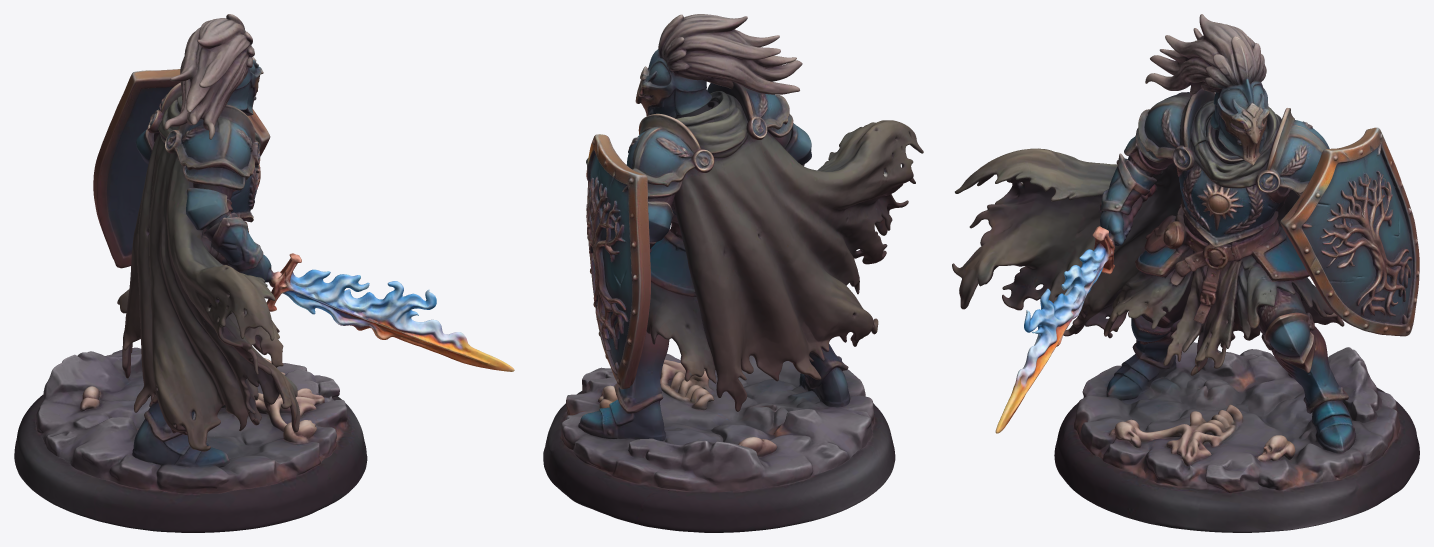
File: inspiration-431.glb
3 views of the same model, side by side, from view 1: azimuth 30°, elevation 25°; view 2: azimuth 150°, elevation 25°; view 3: azimuth 270°, elevation 25° (orthographic).
Parts seen in each view (by area): view 1: tripo_node_c1ebcdc5-d029-4665-b0c7-721775fae2c4; view 2: tripo_node_c1ebcdc5-d029-4665-b0c7-721775fae2c4; view 3: tripo_node_c1ebcdc5-d029-4665-b0c7-721775fae2c4.
Boxes of the visible parts, x1,y1,x2,y2 form: tripo_node_c1ebcdc5-d029-4665-b0c7-721775fae2c4: (14, 14, 514, 532); tripo_node_c1ebcdc5-d029-4665-b0c7-721775fae2c4: (543, 14, 923, 532); tripo_node_c1ebcdc5-d029-4665-b0c7-721775fae2c4: (952, 14, 1419, 532).
Bounding box in the file's own units: 0.8612 × 1 × 0.9615.
Materials: 1 (1 with a texture image).
